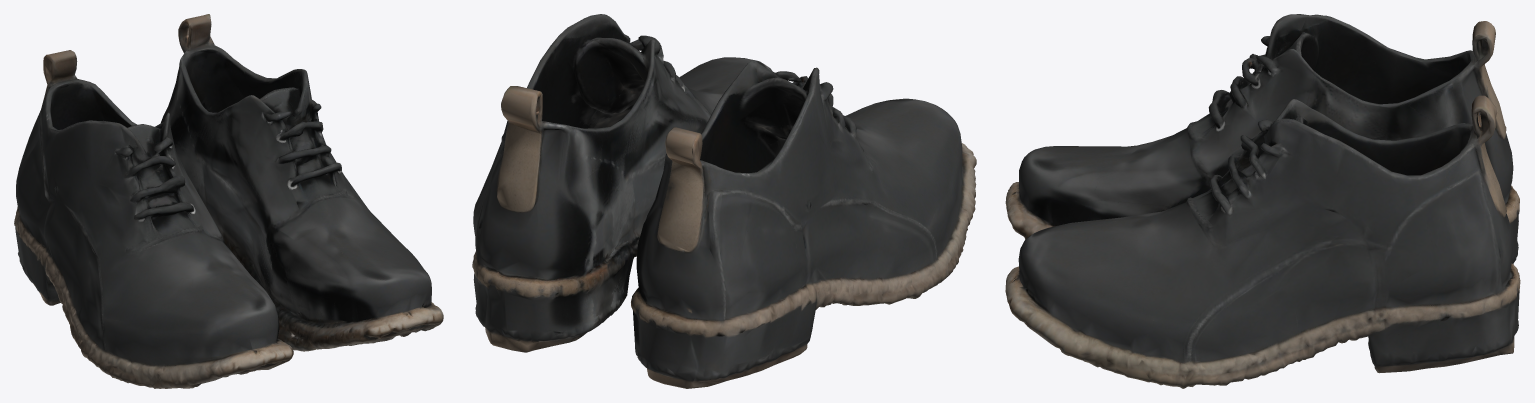
Rendered from les-derbies-femme_packshot_idx4.glb.
3 views of the same model, side by side, from view 1: azimuth 30°, elevation 25°; view 2: azimuth 150°, elevation 25°; view 3: azimuth 270°, elevation 25° (orthographic). The views are drawn at different scales.
Bounding box in the file's own units: 1.65 × 1.05 × 2.
1 material, 1 textured.
